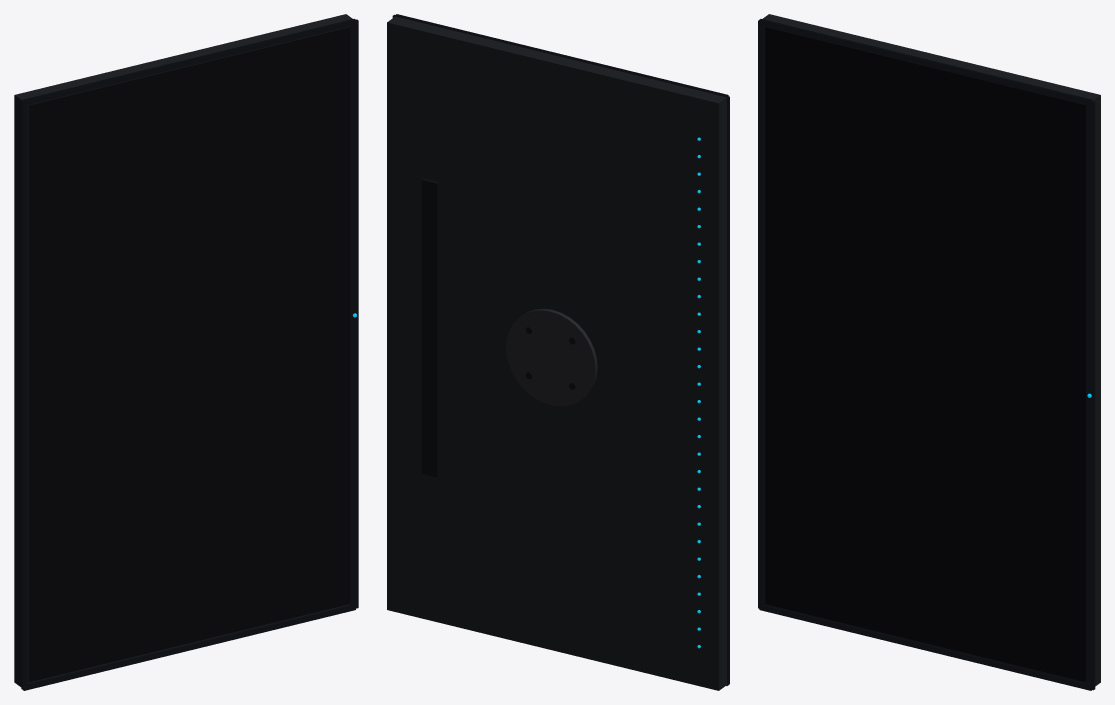
Rendered from ergoflex-portrait-monitor.glb.
The picture shows the model from 3 angles, left to right: view 1: azimuth 30°, elevation 25°; view 2: azimuth 150°, elevation 25°; view 3: azimuth 330°, elevation 25°; orthographic projection.
Parts seen in each view (by area): view 1: monitor-screen, Mesh_2, Mesh_0; view 2: Mesh_0, display-vesa-mount, Mesh_7, Mesh_2; view 3: monitor-screen, Mesh_2, Mesh_0.
Part boxes in pixels (left/top/right/bottom): monitor-screen: left=28, top=27, right=349, bottom=682; Mesh_2: left=21, top=18, right=358, bottom=690; Mesh_0: left=14, top=14, right=352, bottom=686; Mesh_0: left=387, top=16, right=726, bottom=690; display-vesa-mount: left=506, top=308, right=597, bottom=406; Mesh_7: left=422, top=178, right=575, bottom=477; Mesh_2: left=392, top=14, right=729, bottom=685; monitor-screen: left=765, top=27, right=1085, bottom=682; Mesh_2: left=758, top=19, right=1095, bottom=690; Mesh_0: left=763, top=14, right=1100, bottom=686.
Size of the model in its own units: 0.4165 by 0.7 by 0.0291.
5 materials, 4 textured.
